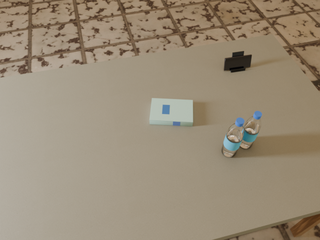book: (150, 98, 193, 126)
bottle: (222, 118, 244, 157), (240, 111, 262, 149)
phone: (224, 55, 252, 70)
